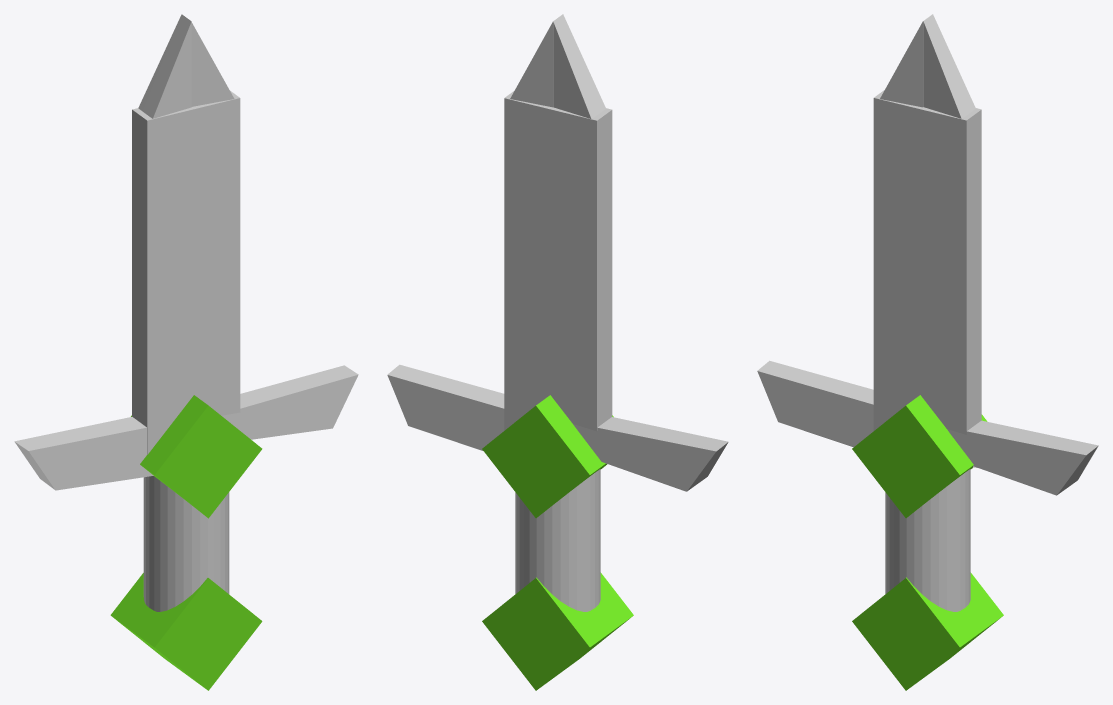
The model's file is sword_wood.fbx.
3 renders of one model, left to right at view 1: azimuth 30°, elevation 25°; view 2: azimuth 150°, elevation 25°; view 3: azimuth 330°, elevation 25°, orthographic.
Visible parts, largest first — view 1: Cube.003, Cylinder, Cube, Cube.001, Cube.002, Cone; view 2: Cube.003, Cylinder, Cube, Cube.001, Cube.002, Cone; view 3: Cube.003, Cylinder, Cube, Cube.001, Cube.002, Cone.
Boxes of the visible parts, left/top/right/bottom form: Cube.003: left=132, top=90, right=358, bottom=454; Cylinder: left=143, top=476, right=229, bottom=611; Cube: left=110, top=573, right=262, bottom=690; Cube.001: left=131, top=395, right=262, bottom=518; Cube.002: left=14, top=417, right=153, bottom=490; Cone: left=138, top=14, right=234, bottom=118; Cube.003: left=387, top=90, right=612, bottom=450; Cylinder: left=515, top=469, right=600, bottom=611; Cube: left=482, top=572, right=633, bottom=690; Cube.001: left=482, top=395, right=613, bottom=518; Cube.002: left=573, top=417, right=728, bottom=491; Cone: left=510, top=14, right=605, bottom=118; Cube.003: left=873, top=90, right=1098, bottom=495; Cylinder: left=885, top=469, right=970, bottom=611; Cube: left=852, top=572, right=1003, bottom=690; Cube.001: left=852, top=395, right=987, bottom=518; Cube.002: left=757, top=360, right=873, bottom=447; Cone: left=880, top=14, right=975, bottom=118.
Bounding box in the file's own units: 208 × 394 × 47.96.
